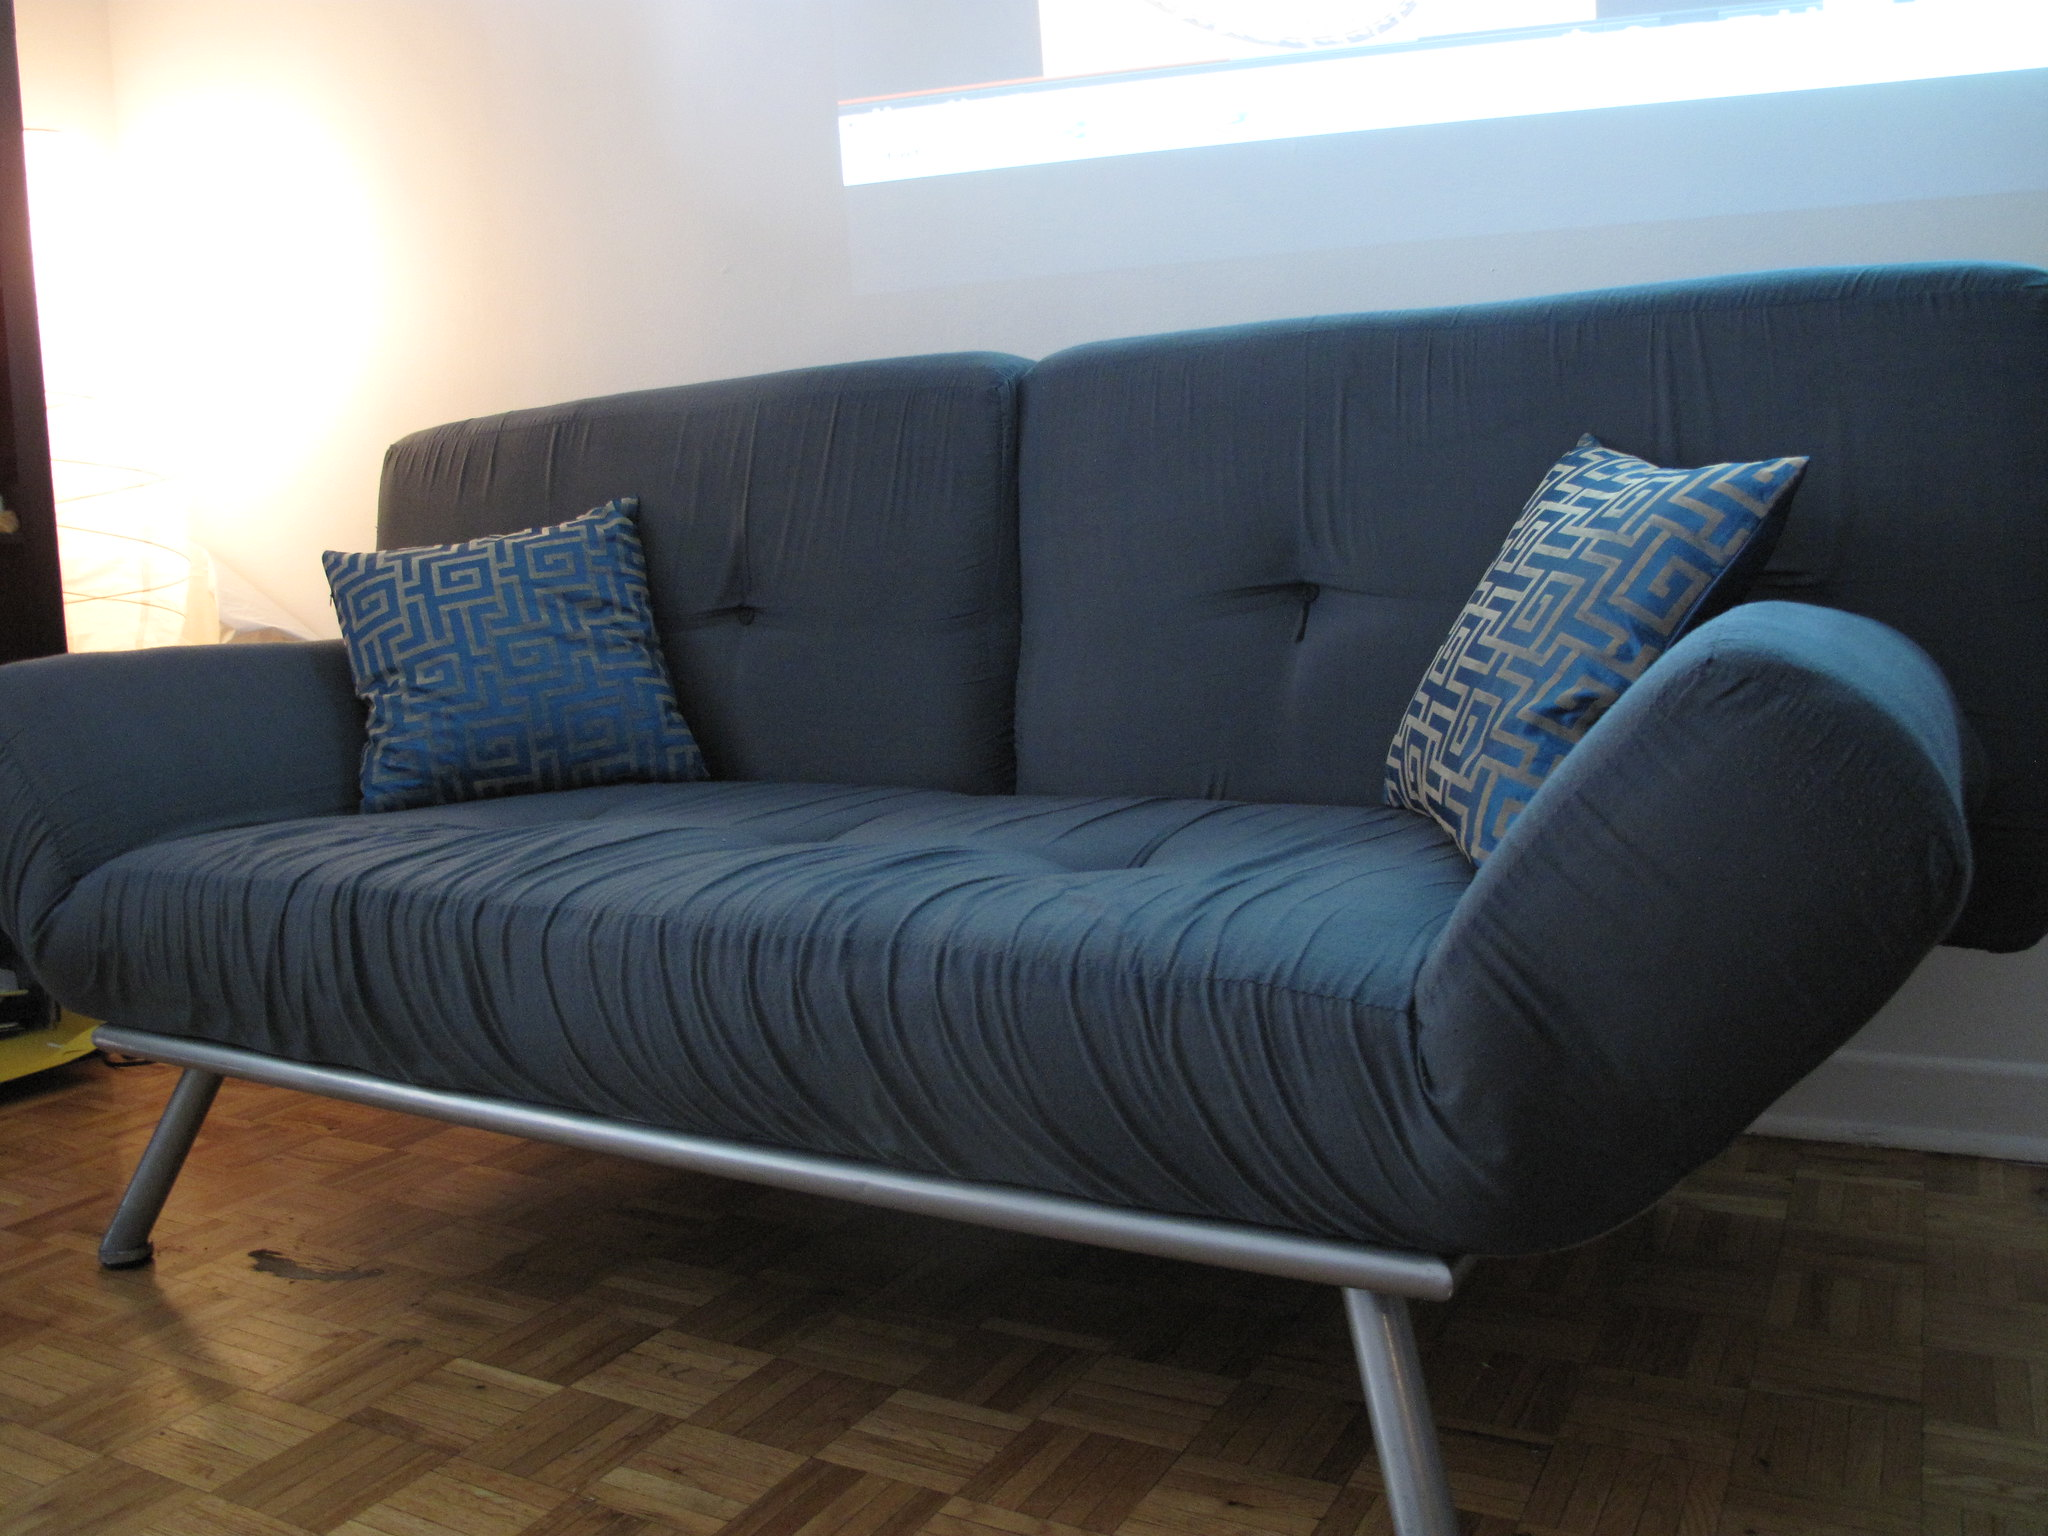sofa: (2, 244, 2033, 1483)
